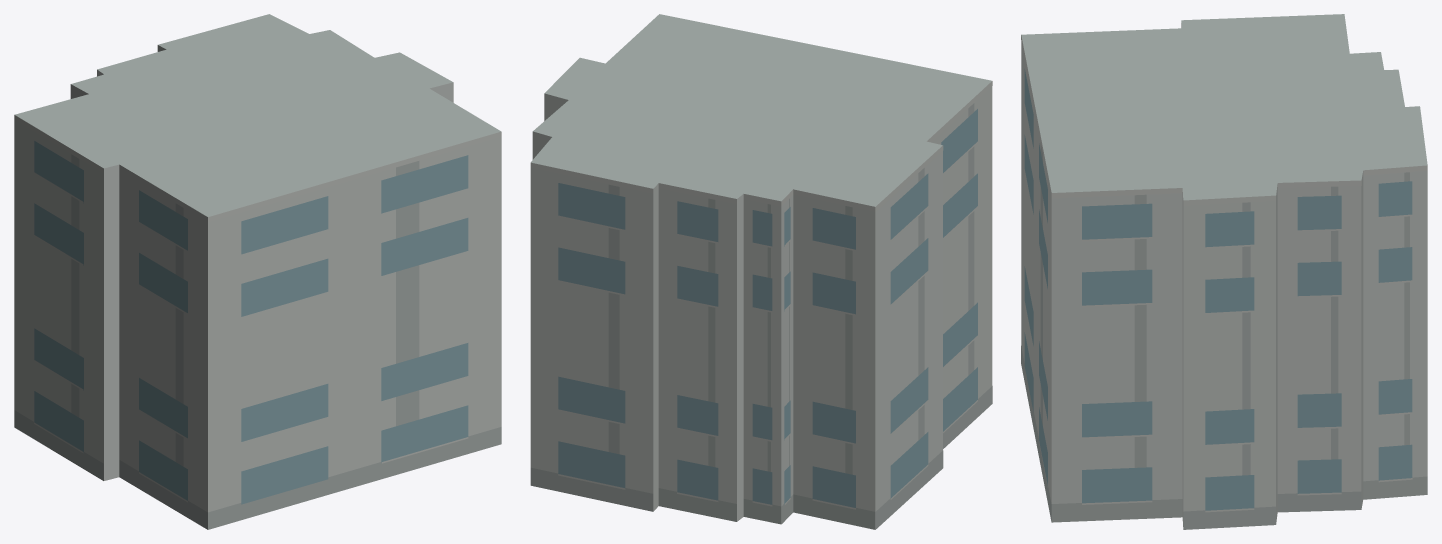
The model's file is survey-upis-32747154.glb.
3 renders of one model, left to right at view 1: azimuth 30°, elevation 25°; view 2: azimuth 150°, elevation 25°; view 3: azimuth 270°, elevation 25°, orthographic. The views are drawn at different scales.
Parts seen in each view (by area): view 1: survey-upis-32747154.tmp; view 2: survey-upis-32747154.tmp; view 3: survey-upis-32747154.tmp.
Boxes of the visible parts, left/top/right/bottom form: survey-upis-32747154.tmp: left=14, top=14, right=501, bottom=529; survey-upis-32747154.tmp: left=530, top=14, right=992, bottom=529; survey-upis-32747154.tmp: left=1021, top=14, right=1427, bottom=529.
Size of the model in its own units: 17.91 by 14.75 by 16.5.
